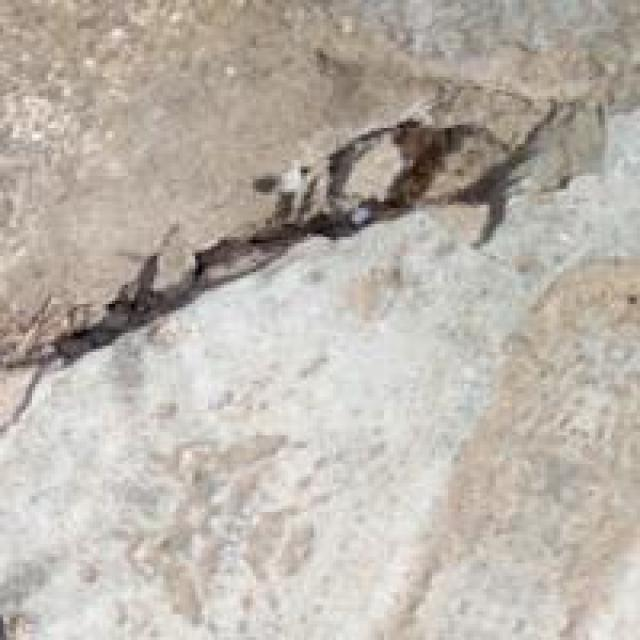SurfaceCrack: (12, 92, 626, 382)
